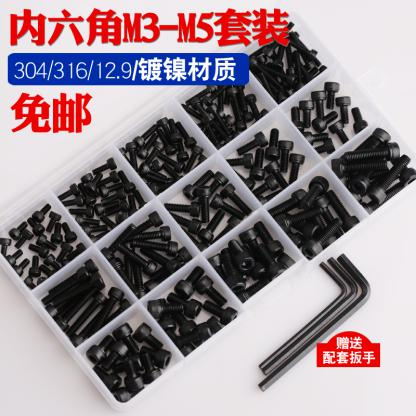FOD: (301, 175, 330, 212), (173, 264, 202, 300), (201, 298, 237, 326), (198, 210, 225, 243), (113, 321, 138, 354), (285, 151, 306, 186), (248, 148, 266, 181), (334, 96, 352, 122), (26, 253, 40, 277)
